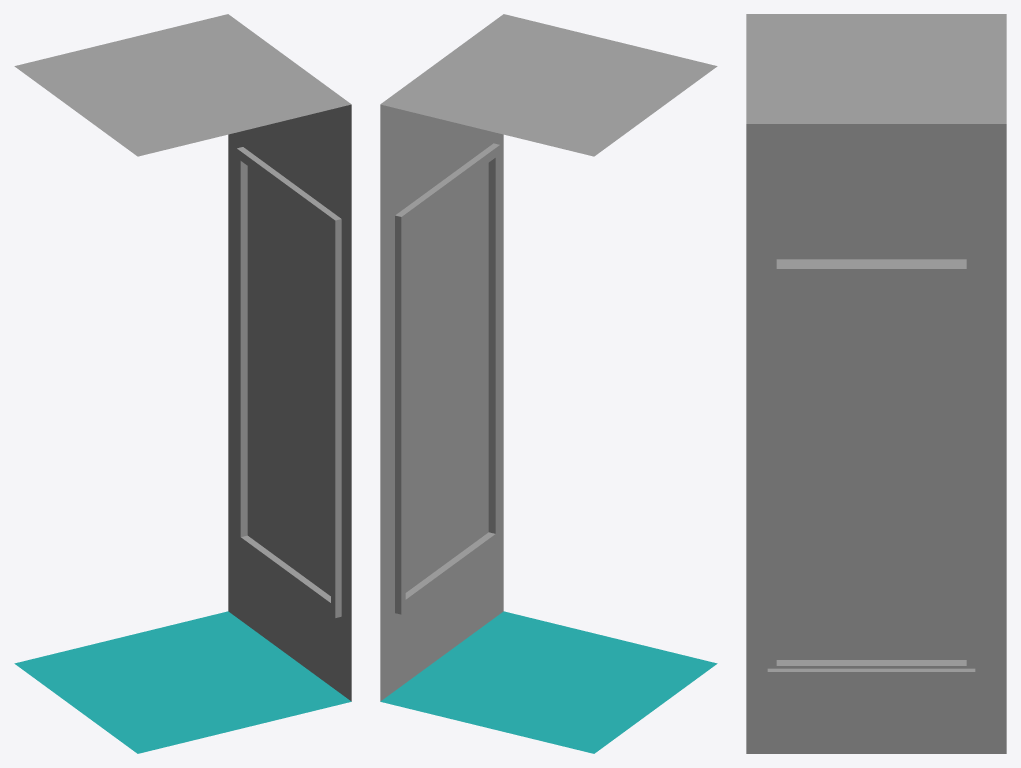
Rendered from ChildroomWindow.fbx.
3 renders of one model, left to right at view 1: azimuth 30°, elevation 25°; view 2: azimuth 150°, elevation 25°; view 3: azimuth 270°, elevation 25°, orthographic. The views are drawn at different scales.
Parts seen in each view (by area): view 1: polySurface1, polySurface2; view 2: polySurface1, polySurface2; view 3: polySurface1, polySurface2.
Part boxes in pixels (bbox=[...]): polySurface1: bbox=[14, 14, 351, 753]; polySurface2: bbox=[247, 166, 330, 595]; polySurface1: bbox=[380, 14, 717, 753]; polySurface2: bbox=[405, 163, 488, 592]; polySurface1: bbox=[746, 14, 1006, 753]; polySurface2: bbox=[776, 269, 966, 659].
Bounding box in the file's own units: 634 × 1600 × 600.
